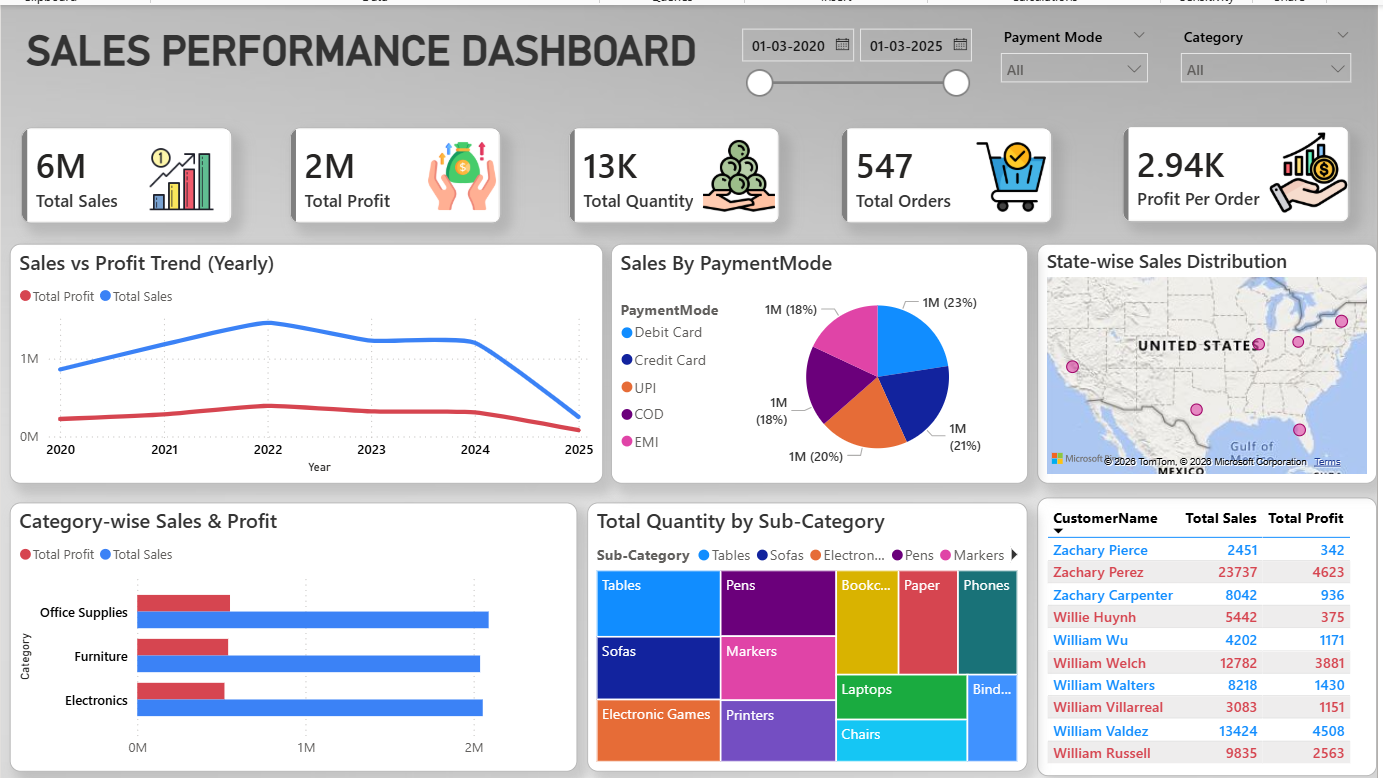

The page's visual inventory and layout, read from the dashboard file:
{"tool":"powerbi","page":{"name":"Page 1","canvas":[1280,720],"ordinal":0},"visuals":[{"type":"shape","box":[0,0,1031.4,98.8],"z":0},{"type":"textbox","box":[18.6,15.1,697.7,55.8],"z":1000},{"type":"lineChart","title":"Sales vs Profit Trend (Yearly)","fields":{"Category":["Sales Dataset.Year-Month.Variation.Date Hierarchy.Year","Sales Dataset.Year-Month.Variation.Date Hierarchy.Month"],"Y":["Sales Dataset.Total Profit","Sales Dataset.Total Sales"]},"box":[8.1,222.1,552.3,223.3],"z":2000},{"type":"clusteredBarChart","title":"Category-wise Sales & Profit","fields":{"Y":["Sales Dataset.Total Profit","Sales Dataset.Total Sales"],"Category":["Sales Dataset.Category"]},"box":[8.1,462.8,527.9,250],"z":3000},{"type":"tableEx","fields":{"Values":["Sales Dataset.CustomerName","Sales Dataset.Total Sales","Sales Dataset.Total Profit"]},"box":[964,458.1,316.3,259.3],"z":4000},{"type":"treemap","fields":{"Values":["Sales Dataset.Total Quantity"],"Group":["Sales Dataset.Sub-Category"]},"box":[545.4,462.8,409.3,250],"z":5000},{"type":"map","title":"State-wise Sales Distribution","fields":{"Category":["Sales Dataset.State"],"Size":["Sales Dataset.Total Sales"]},"box":[964,222.1,316.3,223.3],"z":6000},{"type":"pieChart","title":"Sales By PaymentMode","fields":{"Category":["Sales Dataset.PaymentMode"],"Y":["Sales Dataset.Total Sales"]},"box":[567.4,222.1,388.4,223.3],"z":7000},{"type":"cardVisual","fields":{"Data":["Sales Dataset.Total Quantity"]},"box":[527.9,114,196.5,89.5],"z":8000},{"type":"cardVisual","fields":{"Data":["Sales Dataset.Total Profit"]},"box":[268.6,114,196.5,89.5],"z":9000},{"type":"cardVisual","fields":{"Data":["Sales Dataset.Total Orders"]},"box":[781.4,114,196.5,89.5],"z":10000},{"type":"cardVisual","fields":{"Data":["Sales Dataset.Profit Per Order"]},"box":[1043,112.8,211.6,89.5],"z":11000},{"type":"image","box":[358.1,124.4,141.9,69.8],"z":12000},{"type":"image","box":[634.9,123.3,103.5,70.9],"z":13000},{"type":"image","box":[847.7,125.6,183.7,68.6],"z":14000},{"type":"image","box":[1154.7,117.4,123.3,76.7],"z":15000},{"type":"cardVisual","fields":{"Data":["Sales Dataset.Total Sales"]},"box":[18.6,114,196.5,89.5],"z":16000},{"type":"image","box":[100,124.4,136,79.1],"z":17000},{"type":"slicer","fields":{"Values":["Sales Dataset.Year-Month"]},"box":[676.7,11.6,232.6,75.6],"z":18000},{"type":"slicer","fields":{"Values":["Sales Dataset.PaymentMode"]},"box":[919.8,15.1,157,70.9],"z":19000},{"type":"slicer","fields":{"Values":["Sales Dataset.Category"]},"box":[1087.2,15.1,179.1,115.1],"z":20000}]}

Visuals, with their boxes on the page's 1280x720 design canvas (x1, y1, x2, y2). These are canvas units, not pixel positions in the 1383x778 screenshot, which may show the page scaled, cropped or inside an application window:
shape: (x1=0, y1=0, x2=1031, y2=99)
textbox: (x1=19, y1=15, x2=716, y2=71)
"Sales vs Profit Trend (Yearly)" lineChart: (x1=8, y1=222, x2=560, y2=445)
"Category-wise Sales & Profit" clusteredBarChart: (x1=8, y1=463, x2=536, y2=713)
tableEx - Sales Dataset.CustomerName x Sales Dataset.Total Sales: (x1=964, y1=458, x2=1280, y2=717)
treemap - Sales Dataset.Total Quantity x Sales Dataset.Sub-Category: (x1=545, y1=463, x2=955, y2=713)
"State-wise Sales Distribution" map: (x1=964, y1=222, x2=1280, y2=445)
"Sales By PaymentMode" pieChart: (x1=567, y1=222, x2=956, y2=445)
cardVisual - Sales Dataset.Total Quantity: (x1=528, y1=114, x2=724, y2=204)
cardVisual - Sales Dataset.Total Profit: (x1=269, y1=114, x2=465, y2=204)
cardVisual - Sales Dataset.Total Orders: (x1=781, y1=114, x2=978, y2=204)
cardVisual - Sales Dataset.Profit Per Order: (x1=1043, y1=113, x2=1255, y2=202)
image: (x1=358, y1=124, x2=500, y2=194)
image: (x1=635, y1=123, x2=738, y2=194)
image: (x1=848, y1=126, x2=1031, y2=194)
image: (x1=1155, y1=117, x2=1278, y2=194)
cardVisual - Sales Dataset.Total Sales: (x1=19, y1=114, x2=215, y2=204)
image: (x1=100, y1=124, x2=236, y2=204)
slicer - Sales Dataset.Year-Month: (x1=677, y1=12, x2=909, y2=87)
slicer - Sales Dataset.PaymentMode: (x1=920, y1=15, x2=1077, y2=86)
slicer - Sales Dataset.Category: (x1=1087, y1=15, x2=1266, y2=130)
